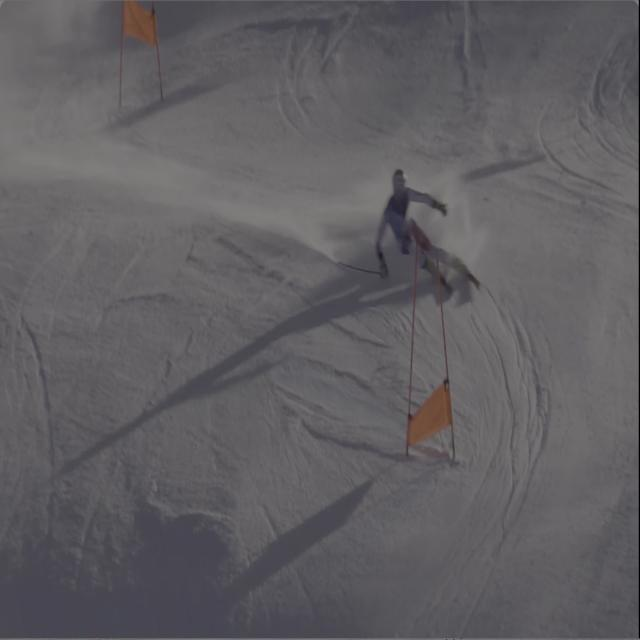gate: (427, 237, 463, 462), (403, 242, 422, 474)
